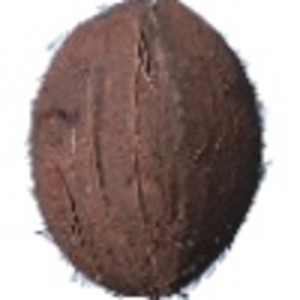coco: (31, 1, 268, 300)
